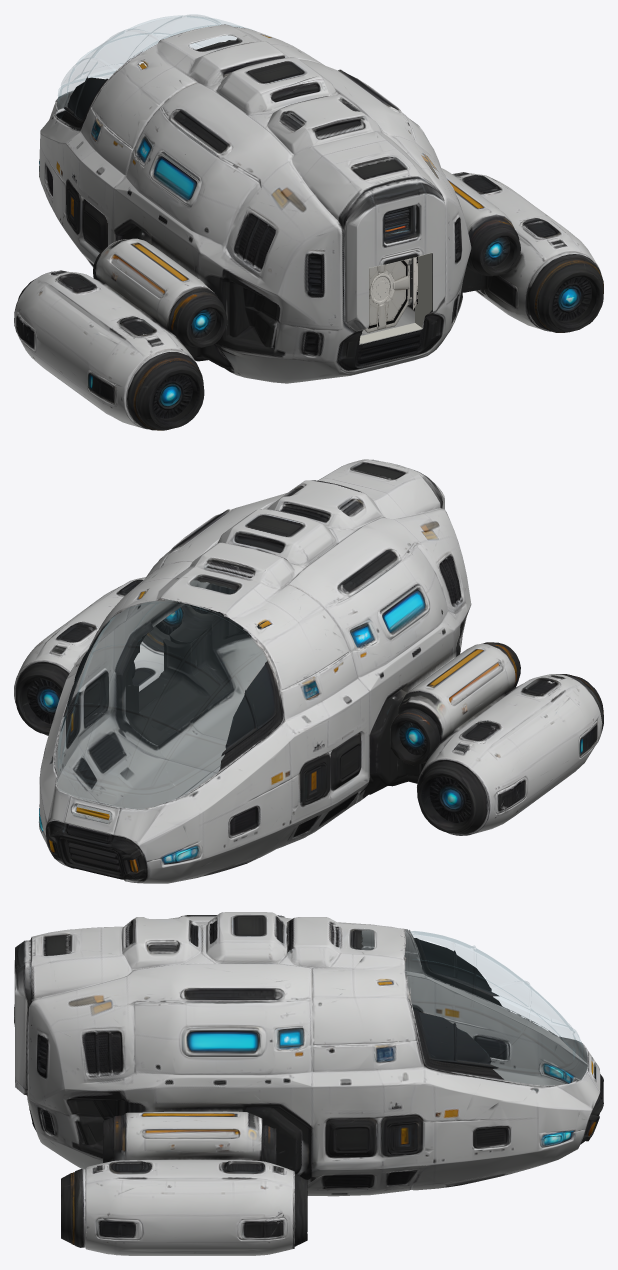
Rendered from spacecraft-redesign-exterior-lod1.glb.
3 views of the same model, one above another, from view 1: azimuth 30°, elevation 25°; view 2: azimuth 150°, elevation 25°; view 3: azimuth 270°, elevation 25° (orthographic). The views are drawn at different scales.
Parts seen in each view (by area): view 1: Exterior_Hull_90, Canopy_Glass_91, 气闸外门_0_65, 尾门通道衬板3_89, 气闸外门_1_66; view 2: Exterior_Hull_90, Canopy_Glass_91; view 3: Exterior_Hull_90, Canopy_Glass_91.
Part boxes in pixels (<box>): Exterior_Hull_90: <box>14,24,603,430</box>; Canopy_Glass_91: <box>57,14,251,108</box>; 气闸外门_0_65: <box>364,258,412,332</box>; 尾门通道衬板3_89: <box>415,253,432,327</box>; 气闸外门_1_66: <box>370,271,394,306</box>; Exterior_Hull_90: <box>14,459,603,883</box>; Canopy_Glass_91: <box>57,585,248,791</box>; Exterior_Hull_90: <box>14,912,603,1255</box>; Canopy_Glass_91: <box>408,930,596,1079</box>.
Bounding box in the file's own units: 14.46 × 6.95 × 16.
8 materials, 3 textured.
